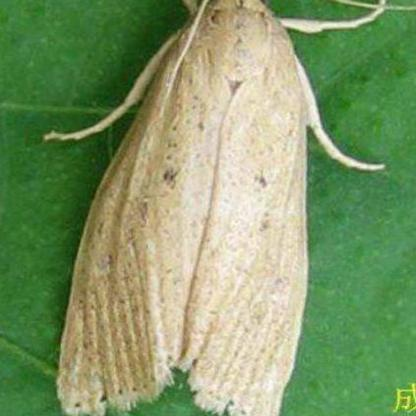stem-borer: (48, 0, 334, 416)
